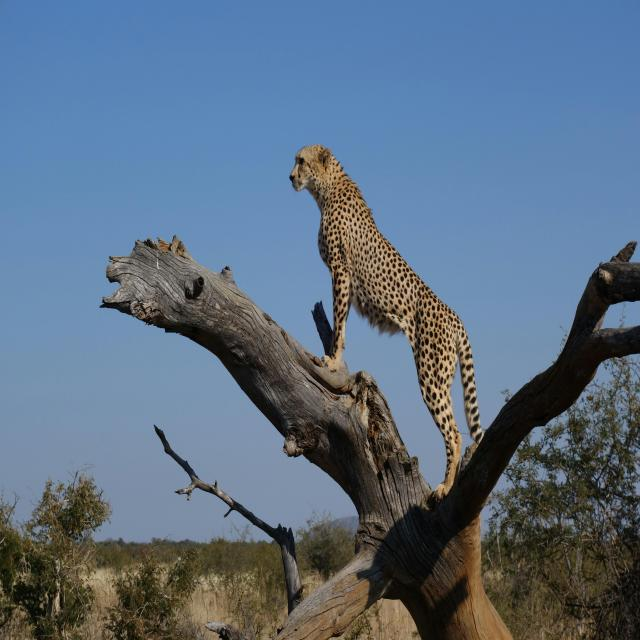Cheetah: (281, 127, 493, 498)
